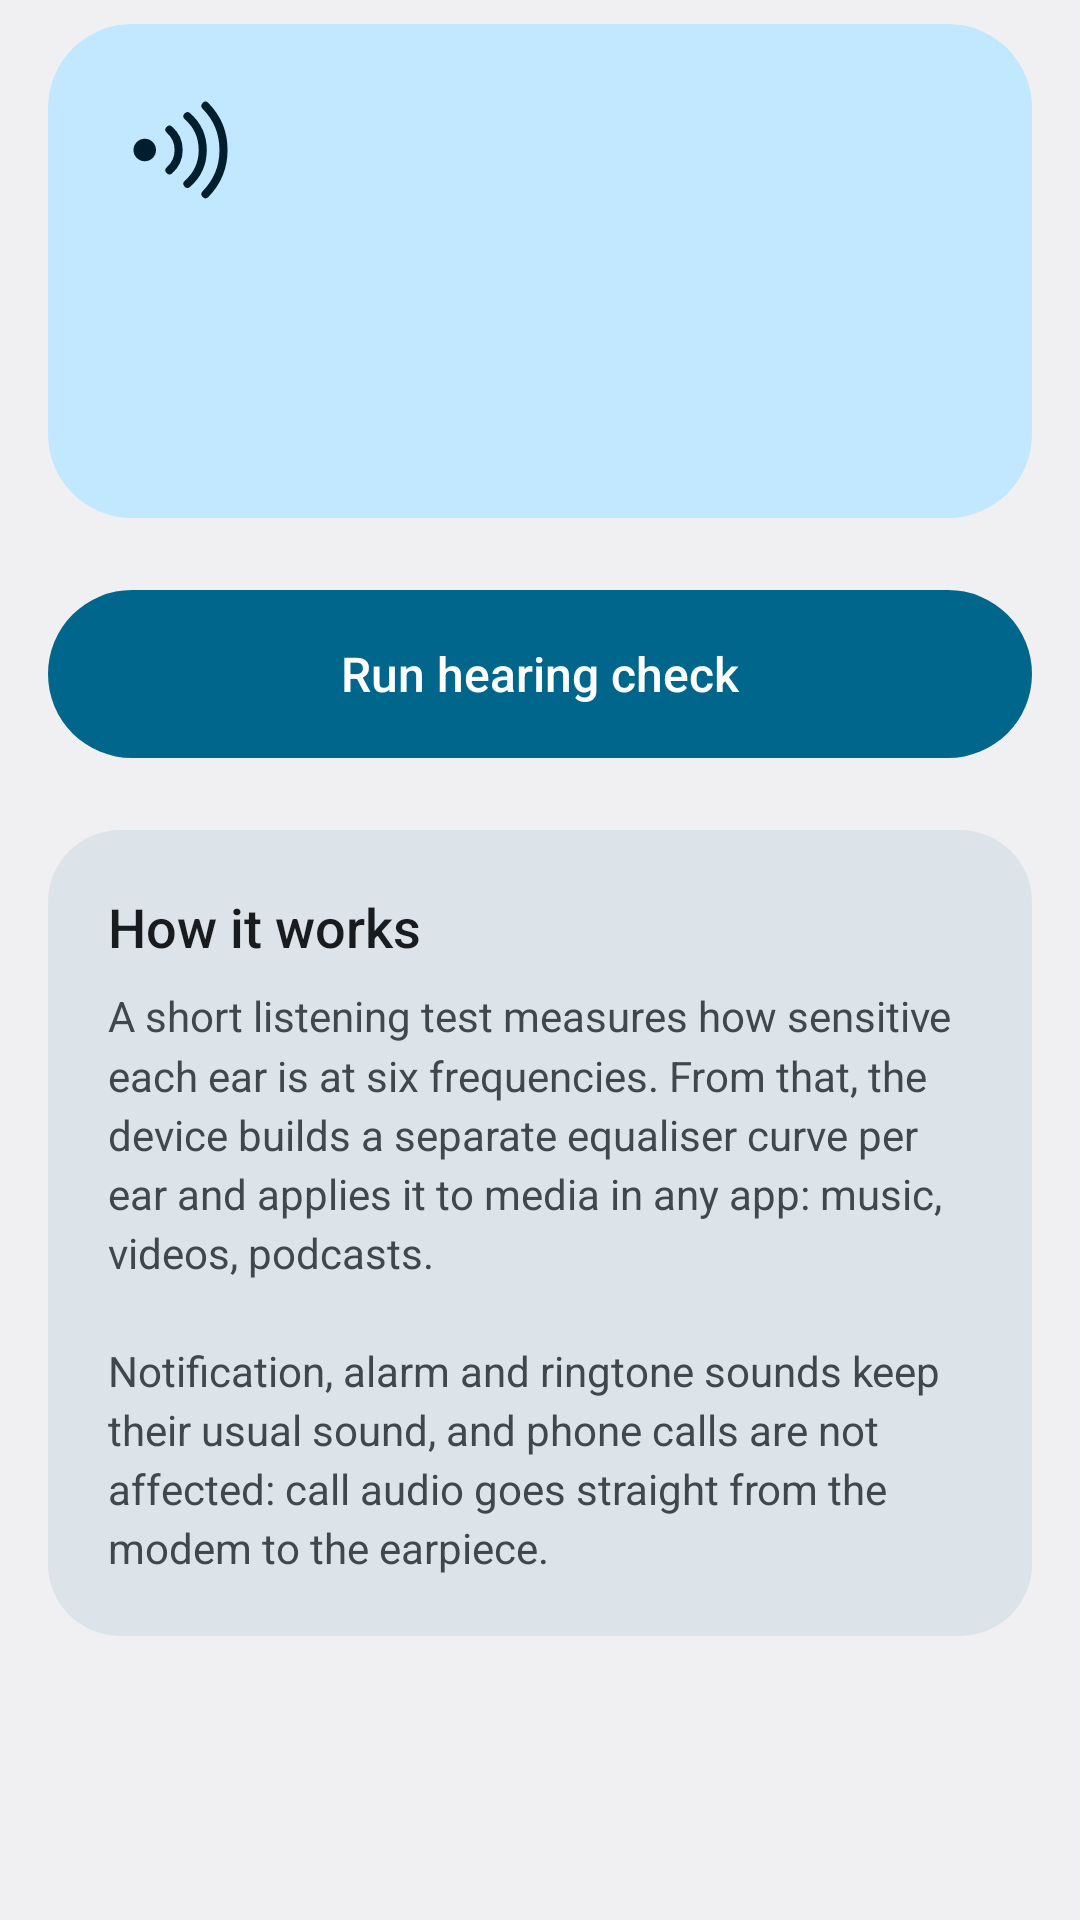

Where to tap for icons on this 1080w x 1920h app screen, as [x,y]:
hearing: [180,150]
